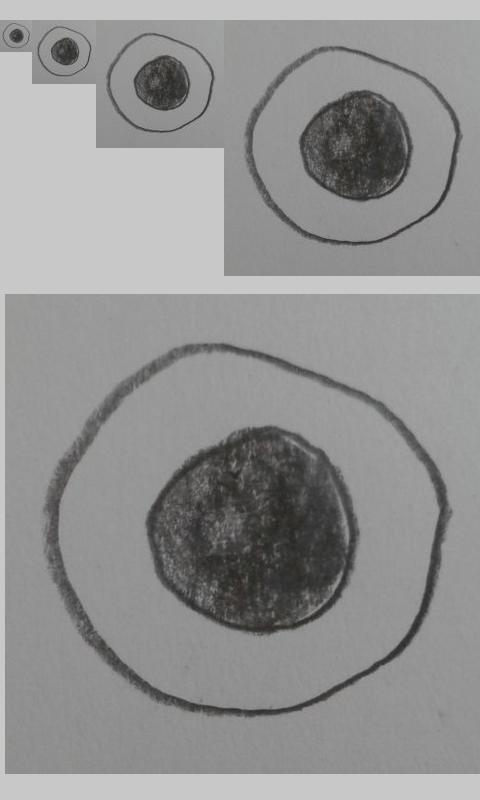radio_button: (42, 341, 453, 722), (241, 42, 464, 250), (106, 32, 216, 133), (36, 25, 92, 78), (2, 22, 30, 49)
